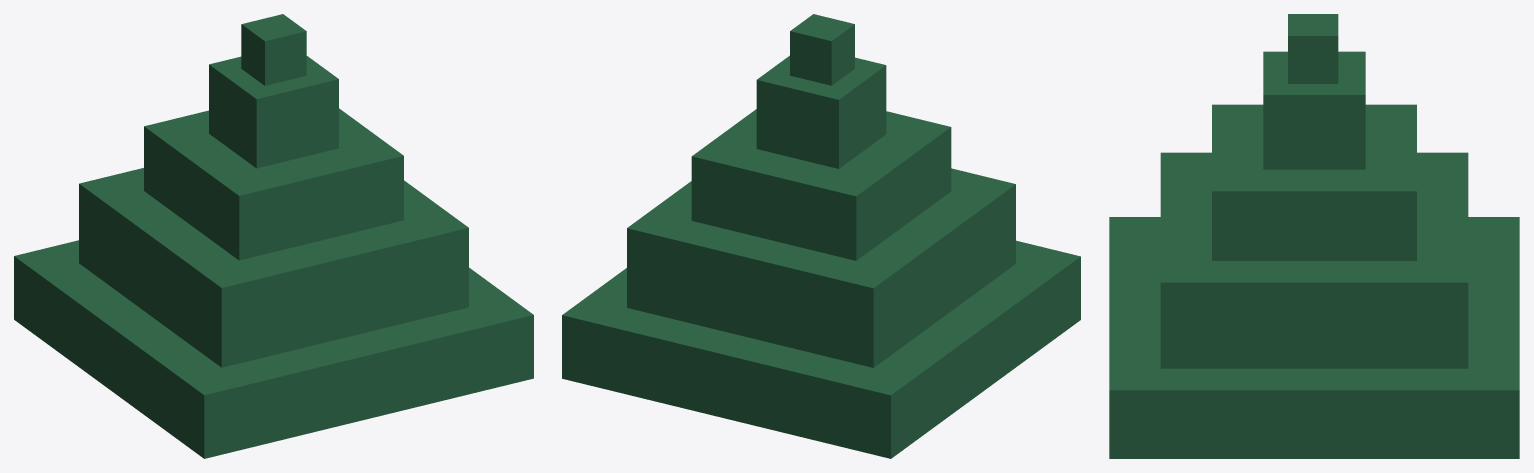
Rendered from pine.fbx.
3 views of the same model, side by side, from view 1: azimuth 30°, elevation 25°; view 2: azimuth 150°, elevation 25°; view 3: azimuth 270°, elevation 25° (orthographic). The views are drawn at different scales.
Parts seen in each view (by area): view 1: Cube_7; view 2: Cube_7; view 3: Cube_7.
Part boxes in pixels (<box>): Cube_7: <box>14,14,533,458</box>; Cube_7: <box>562,14,1080,458</box>; Cube_7: <box>1109,14,1519,458</box>.
Size of the model in its own units: 916 by 973 by 916.
